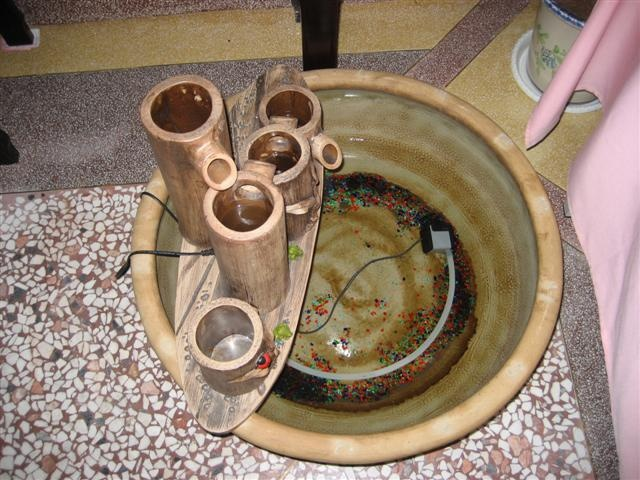bowl: (128, 68, 567, 469)
plate: (509, 26, 602, 115)
